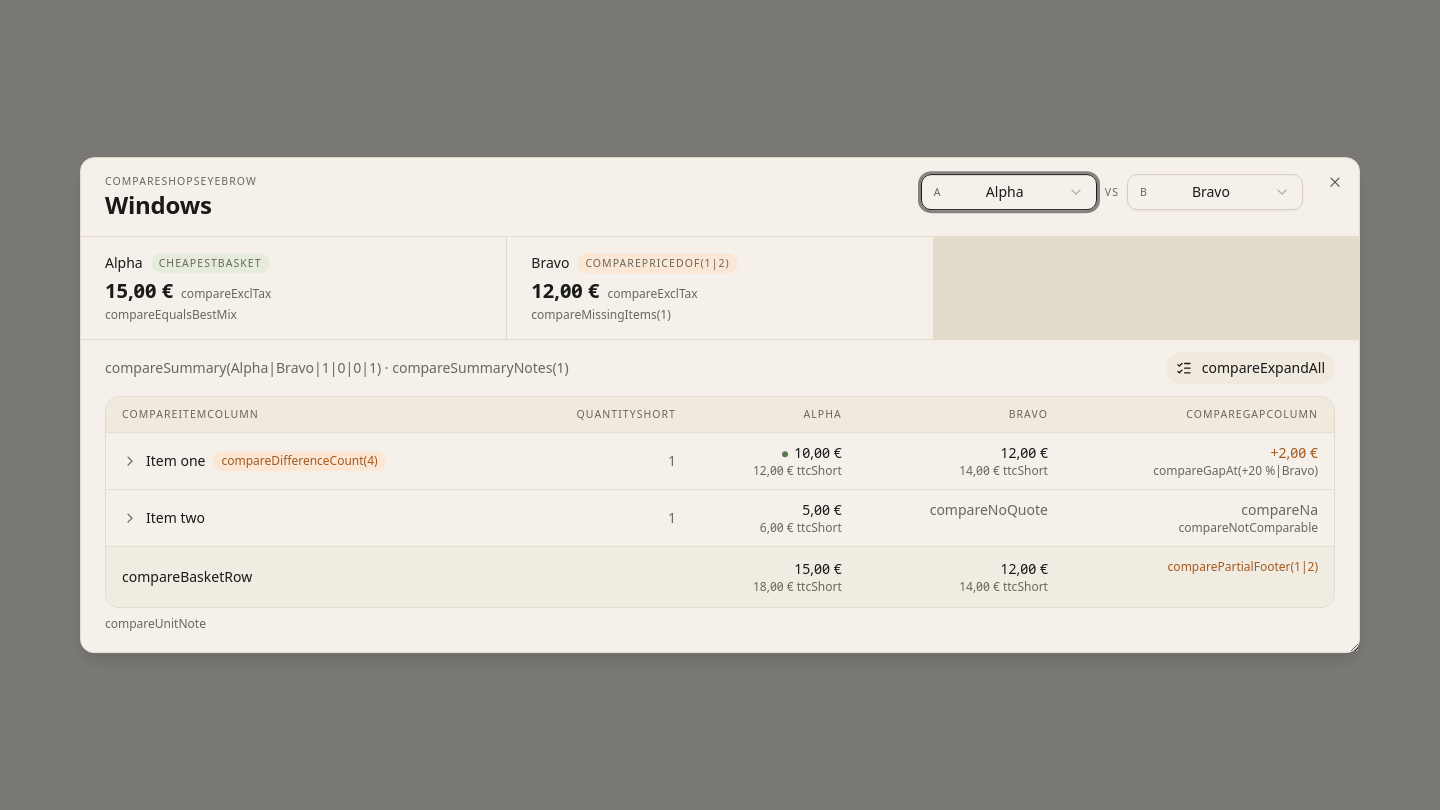
Test case: SectionCompareDialog › says 'no note' for a quote without one and 'no quote' where there is none
Step 1. Click the 2nd button with test id "compare-row-toggle" → (130, 518), box x1=122 y1=510 x2=138 y2=526
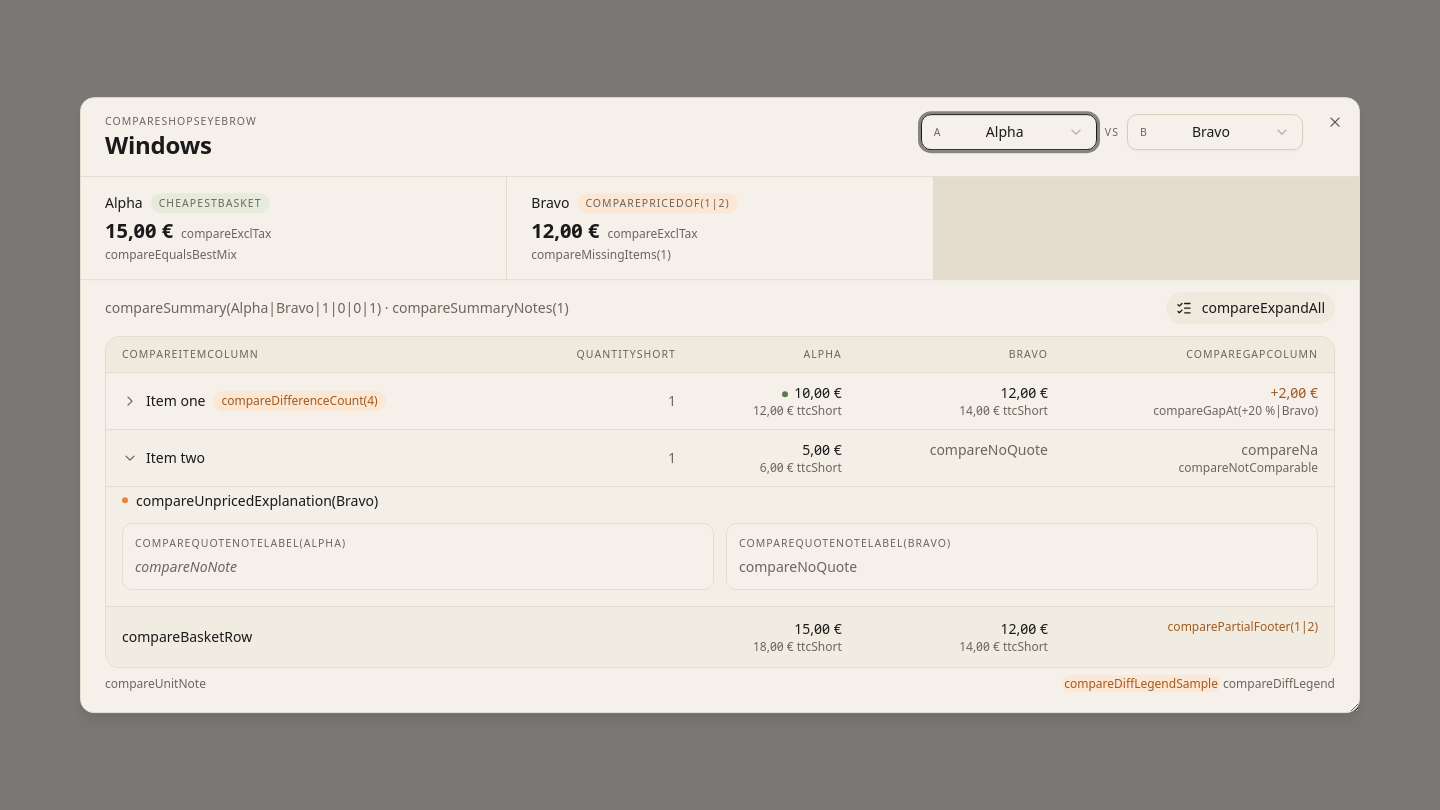
Expected: the element with test id "compare-note-a" shows "compareNoNote", x1=135 y1=557 x2=237 y2=576
Expected: the element with test id "compare-note-b" shows "compareNoQuote", x1=739 y1=557 x2=857 y2=576
Expected: the element with test id "compare-gap-explanation" reads "compareUnpricedExplanation(Bravo)", x1=136 y1=491 x2=378 y2=510
